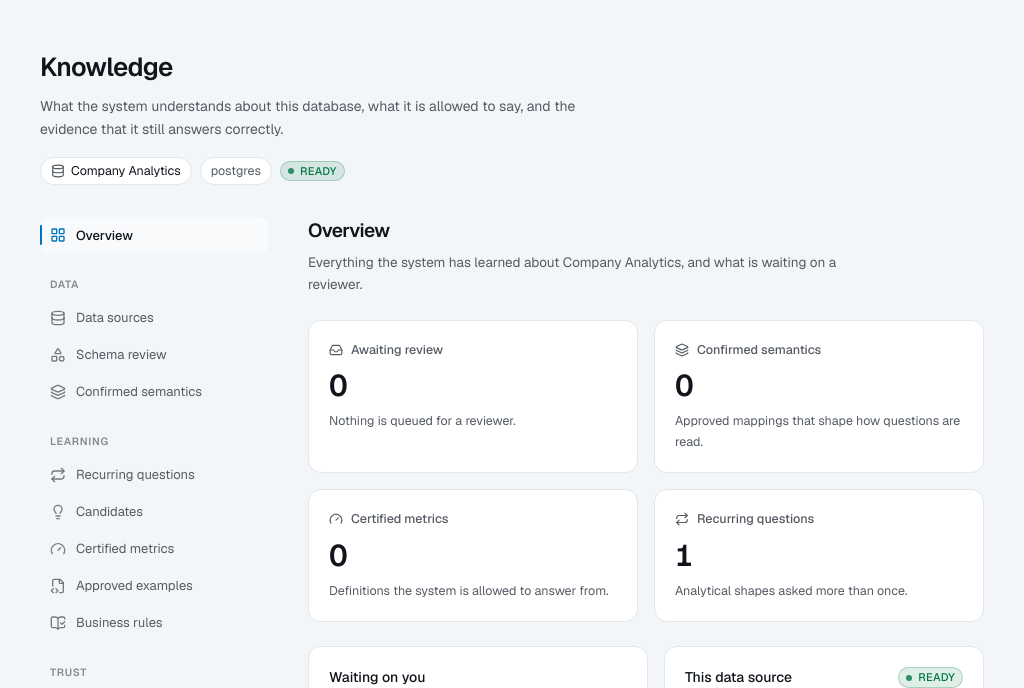
Test: Learning provenance navigation › moves from an approved candidate to its normalized store
The image size is (1024, 688).
Click the tab "Candidates" at (154, 512), box [40,494,268,530]
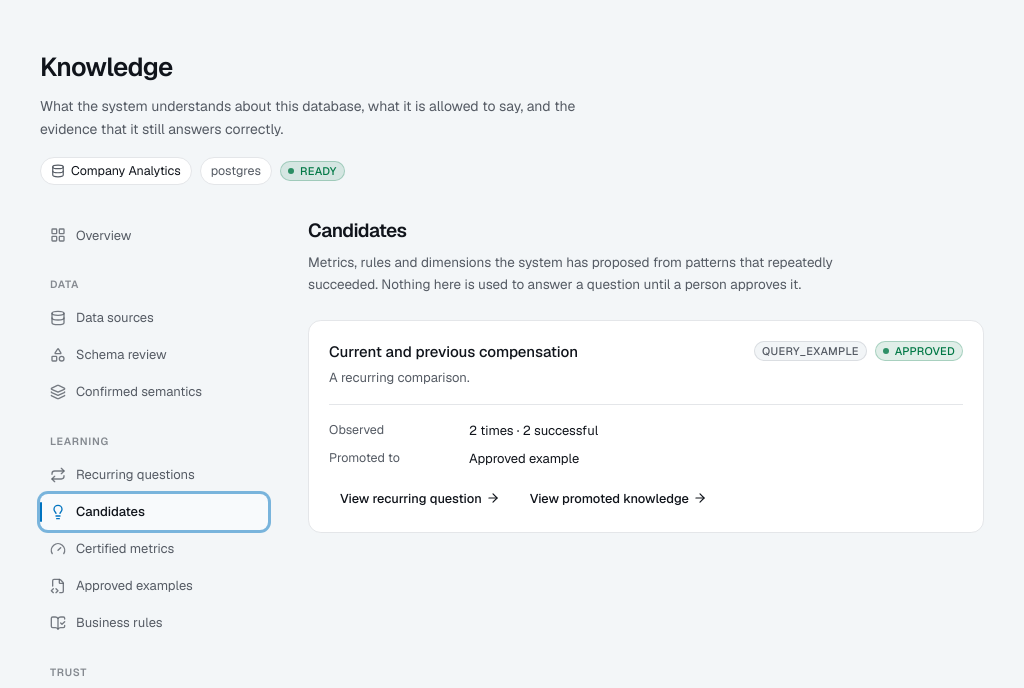
Click the button "View promoted knowledge" at (618, 498), box [519,484,718,512]
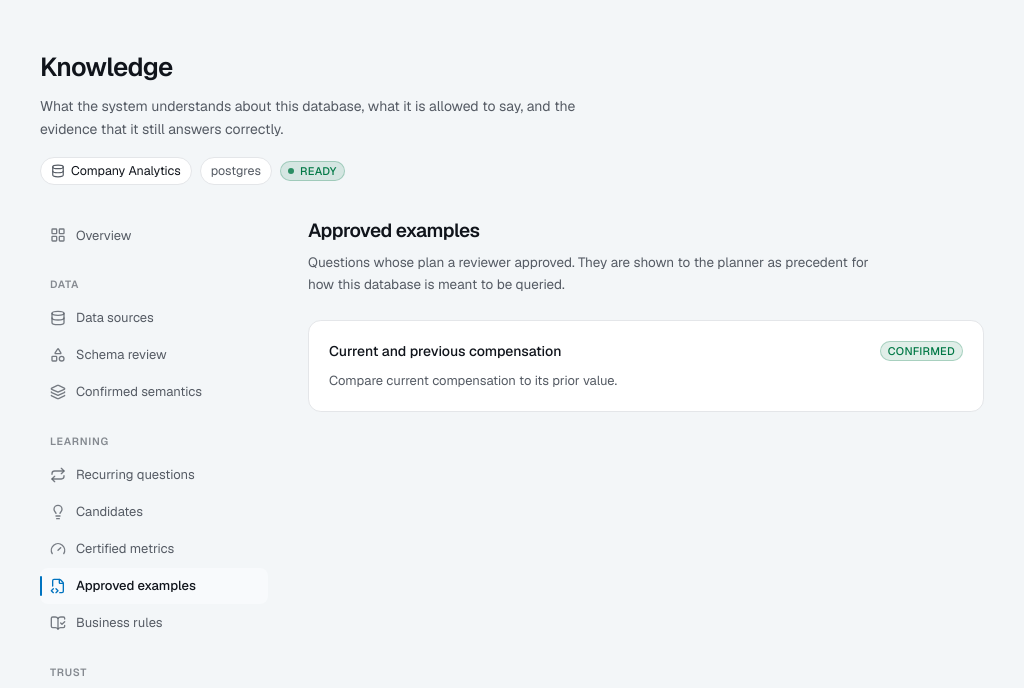
Expected: the text "Compare current compensation to its prior value." is shown, [329,372,617,389]
